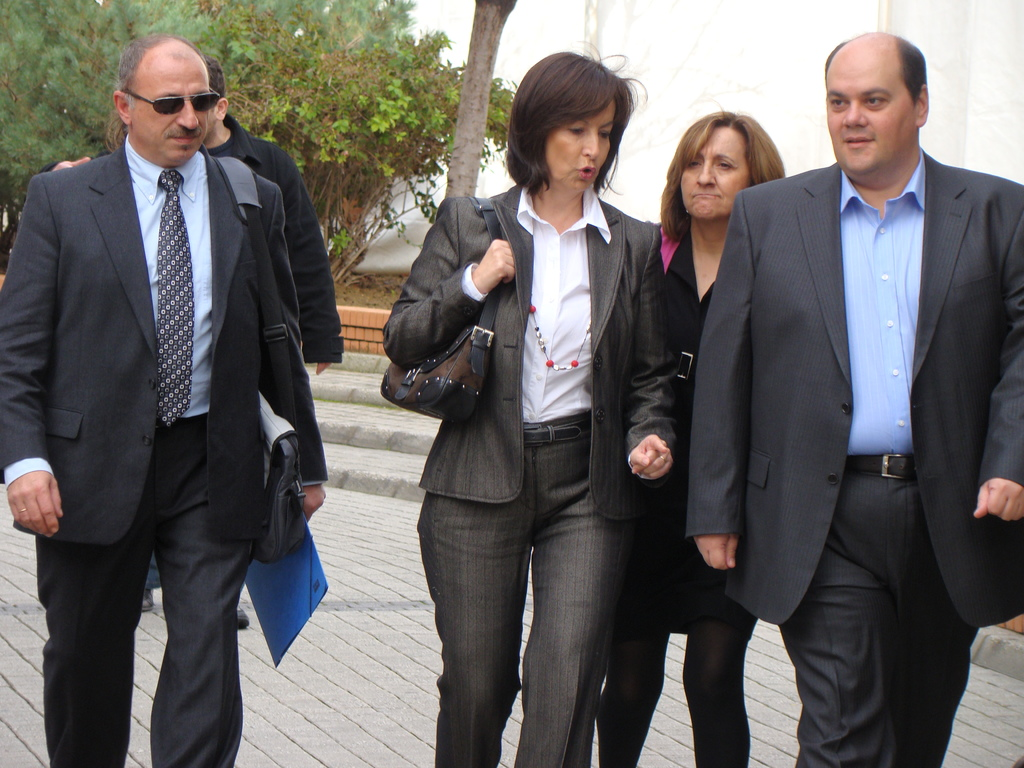Footwear: (138, 590, 156, 614), (236, 608, 246, 624)
